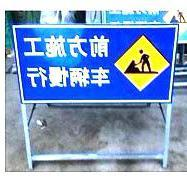sign: (13, 23, 179, 105)
